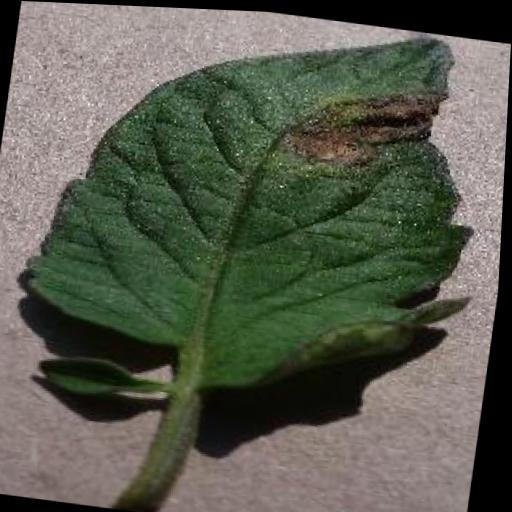Late Blight: (14, 1, 509, 417)
